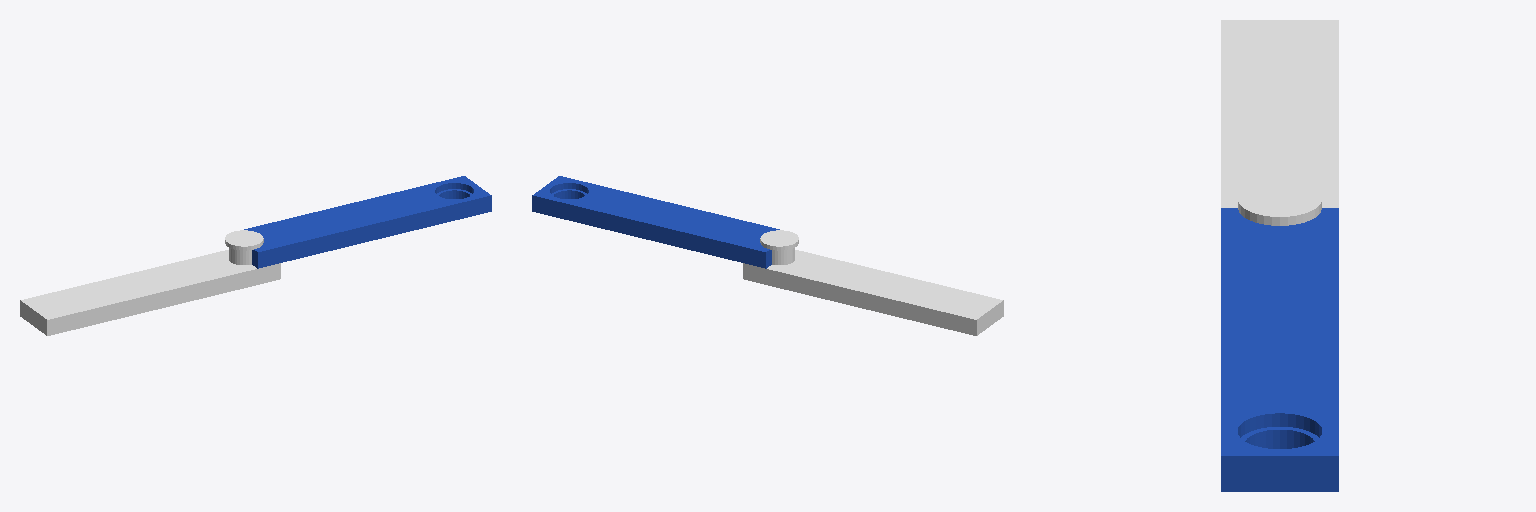
robot.urdf — snap_pin_joint:
<?xml version="1.0" encoding="UTF-8"?>
<robot name="snap_pin_joint" xmlns:xacro="http://www.ros.org/wiki/xacro">

  <!-- ============ Materials ============ -->
  <material name="pla_white">
    <color rgba="0.95 0.95 0.95 1.0"/>
  </material>
  <material name="pla_blue">
    <color rgba="0.2 0.4 0.8 1.0"/>
  </material>

  <!-- ============ Link A (con pin) ============ -->
  <link name="link_A">
    <visual>
      <origin xyz="0 0 0" rpy="0 0 0"/>
      <geometry>
        <mesh filename="link_A.stl" scale="0.001 0.001 0.001"/>
      </geometry>
      <material name="pla_white"/>
    </visual>
    <collision>
      <origin xyz="0 0 0" rpy="0 0 0"/>
      <geometry>
        <mesh filename="link_A.stl" scale="0.001 0.001 0.001"/>
      </geometry>
    </collision>
    <inertial>
      <mass value="0.01"/>
      <origin xyz="0.0300 0 0.0020" rpy="0 0 0"/>
      <inertia ixx="6.13e-07" ixy="0" ixz="0"
               iyy="3.01e-06" iyz="0" izz="3.49e-06"/>
    </inertial>
  </link>

  <!-- ============ Link B (con agujero) ============ -->
  <link name="link_B">
    <visual>
      <origin xyz="0 0 0" rpy="0 0 0"/>
      <geometry>
        <mesh filename="link_B.stl" scale="0.001 0.001 0.001"/>
      </geometry>
      <material name="pla_blue"/>
    </visual>
    <collision>
      <origin xyz="0 0 0" rpy="0 0 0"/>
      <geometry>
        <mesh filename="link_B.stl" scale="0.001 0.001 0.001"/>
      </geometry>
    </collision>
    <inertial>
      <mass value="0.01"/>
      <origin xyz="0.0300 0 0.0020" rpy="0 0 0"/>
      <inertia ixx="6.13e-07" ixy="0" ixz="0"
               iyy="3.01e-06" iyz="0" izz="3.49e-06"/>
    </inertial>
  </link>

  <!-- ============ Joint revolute ============ -->
  <joint name="snap_pin" type="revolute">
    <parent link="link_A"/>
    <child link="link_B"/>
    <origin xyz="0.0540 0 0.0040" rpy="0 0 0"/>
    <axis xyz="0 0 1"/>
    <limit lower="-1.570796" upper="1.570796"
           effort="1.0" velocity="3.14"/>
    <dynamics damping="0.001" friction="0.005"/>
  </joint>

</robot>

--- Facts derived from the render (not from the file) ---
3 views of the same robot in one strip: view 1: azimuth 30°, elevation 25°; view 2: azimuth 150°, elevation 25°; view 3: azimuth 270°, elevation 25° (orthographic).
Robot: snap_pin_joint — 2 links, 1 joints (1 revolute); root link link_A; default pose: all joints at 0.
Links seen in each view (by area): view 1: link_A, link_B; view 2: link_A, link_B; view 3: link_B, link_A.
Link boxes in pixels (bbox=[...]): link_A: bbox=[20, 230, 280, 335]; link_B: bbox=[244, 176, 491, 268]; link_A: bbox=[743, 230, 1003, 335]; link_B: bbox=[532, 176, 779, 268]; link_B: bbox=[1221, 208, 1338, 491]; link_A: bbox=[1221, 20, 1338, 225].
Size in the robot's own frame: 0.114 by 0.012 by 0.009 metres.
Meshes: 2 distinct files referenced, 2 mesh visuals loaded (2 ASCII STL).
